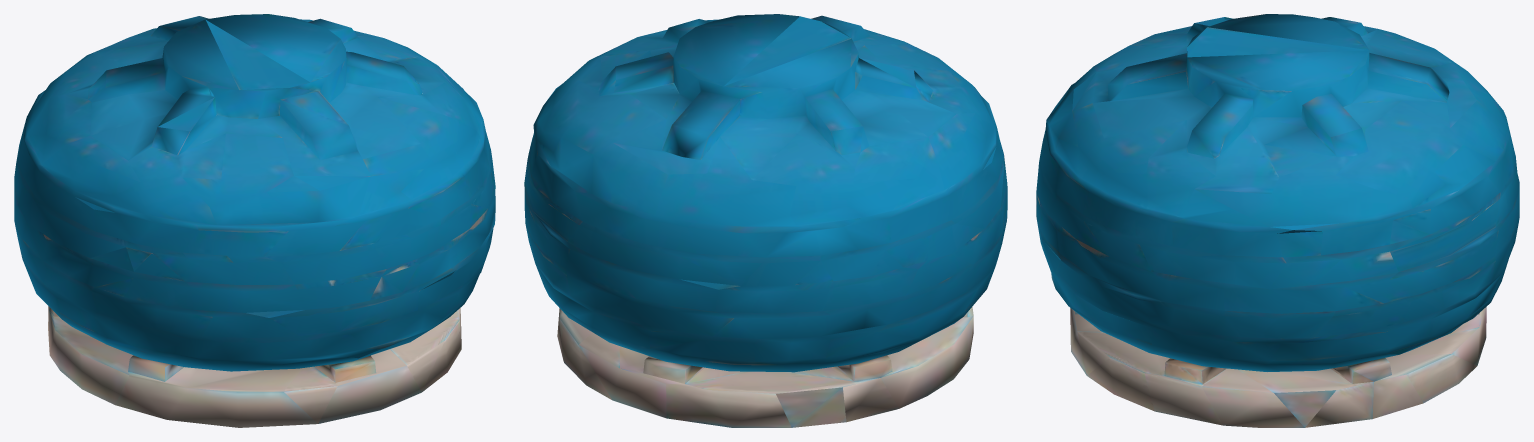
The model's file is fv_water_tank.glb.
3 renders of one model, left to right at view 1: azimuth 30°, elevation 25°; view 2: azimuth 150°, elevation 25°; view 3: azimuth 270°, elevation 25°, orthographic.
Parts seen in each view (by area): view 1: fv_water_tank; view 2: fv_water_tank; view 3: fv_water_tank.
Part boxes in pixels (left/top/right/bottom): fv_water_tank: left=14, top=14, right=495, bottom=427; fv_water_tank: left=524, top=14, right=1007, bottom=427; fv_water_tank: left=1036, top=14, right=1519, bottom=427.
Size of the model in its own units: 1.6 by 1.05 by 1.6.
1 material, 1 textured.
